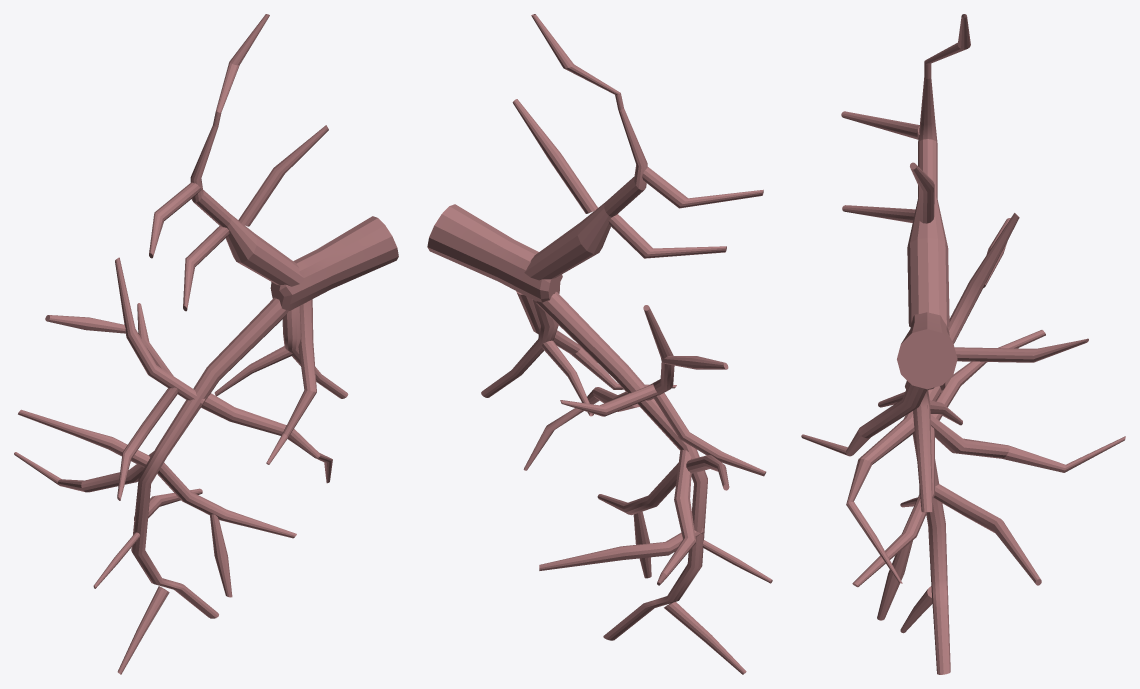
The model's file is bronchi.fbx.
The picture shows the model from 3 angles, left to right: view 1: azimuth 30°, elevation 25°; view 2: azimuth 150°, elevation 25°; view 3: azimuth 270°, elevation 25°; orthographic projection. The views are drawn at different scales.
Parts seen in each view (by area): view 1: bronchie; view 2: bronchie; view 3: bronchie.
Part boxes in pixels (x1,y1,x2,y2): bronchie: [14, 14, 398, 674]; bronchie: [427, 14, 772, 674]; bronchie: [801, 14, 1125, 674].
Bounding box in the file's own units: 42.71 × 75.29 × 30.77.
